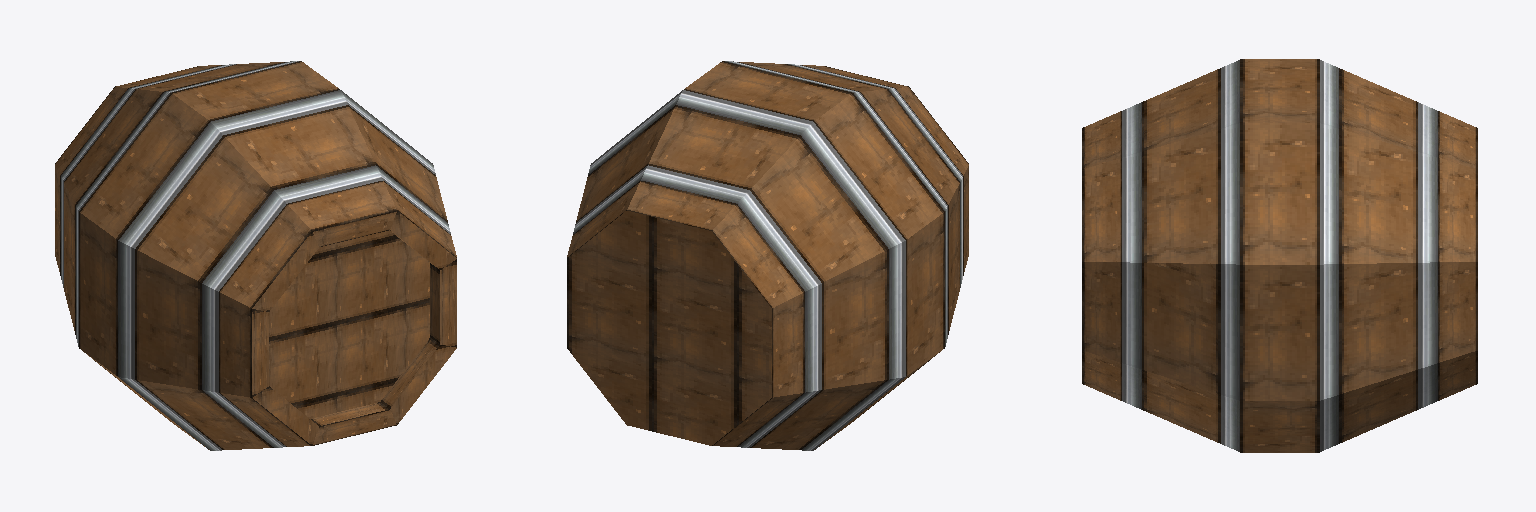
3 views of the same model, side by side, from view 1: azimuth 30°, elevation 25°; view 2: azimuth 150°, elevation 25°; view 3: azimuth 270°, elevation 25° (orthographic).
Parts seen in each view (by area): view 1: object 1; view 2: object 1; view 3: object 1.
Boxes of the visible parts, <box> form: object 1: <box>55,61,456,450</box>; object 1: <box>567,61,968,450</box>; object 1: <box>1082,59,1477,452</box>.
Bounding box in the file's own units: 0.92 × 0.92 × 1.
2 materials, 2 textured.